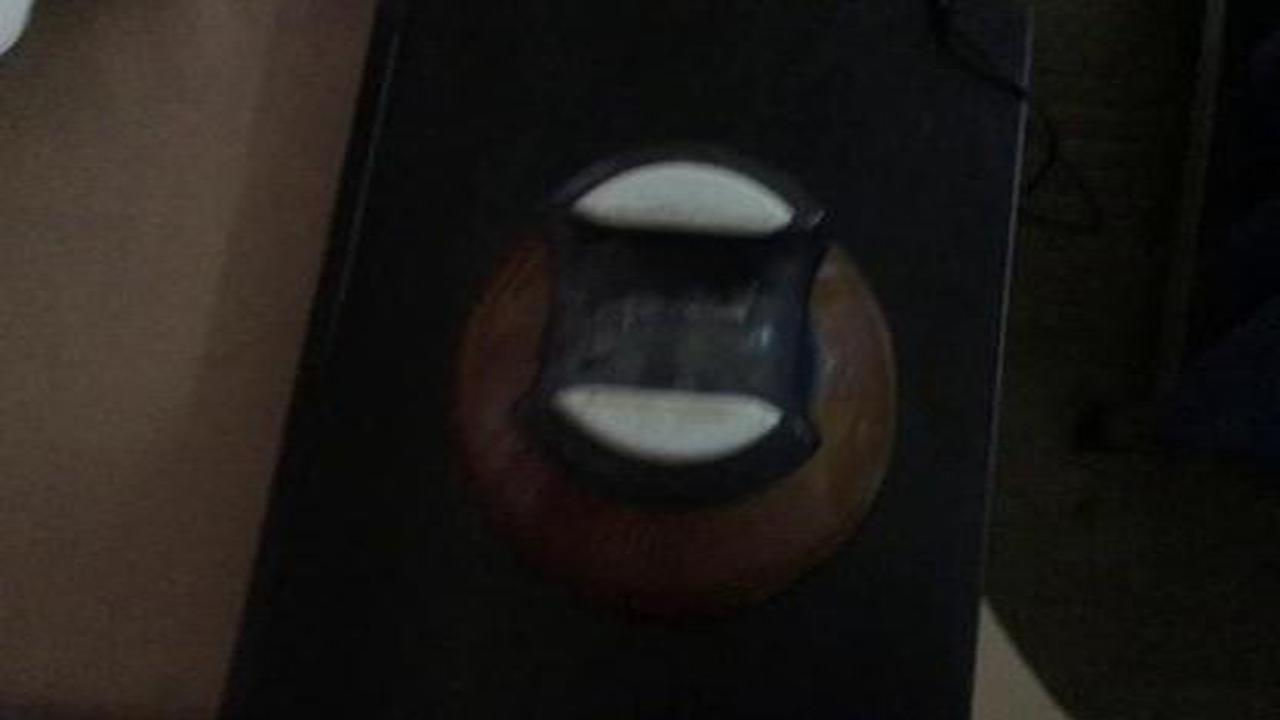insulator_pin: (422, 116, 945, 627)
